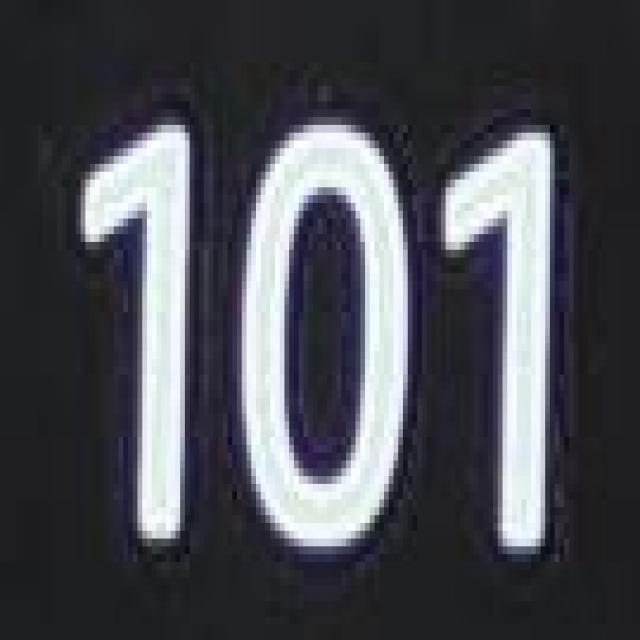character: (230, 108, 428, 566), (439, 108, 573, 578), (72, 107, 208, 564)
